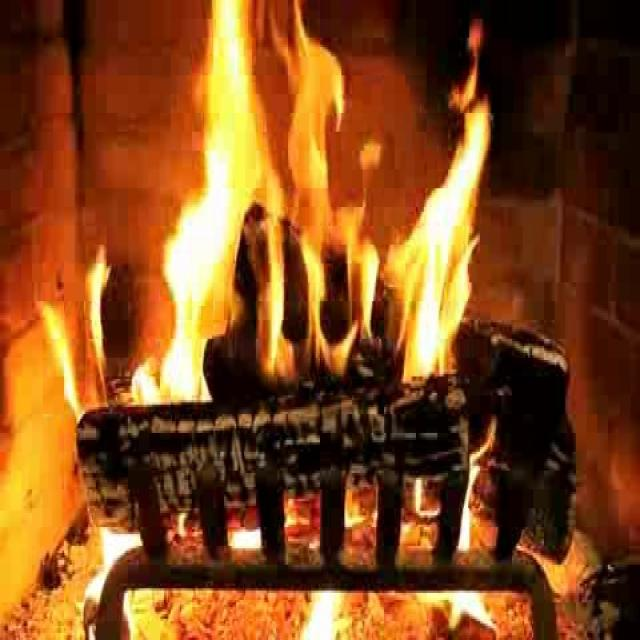fire: (154, 7, 514, 422)
